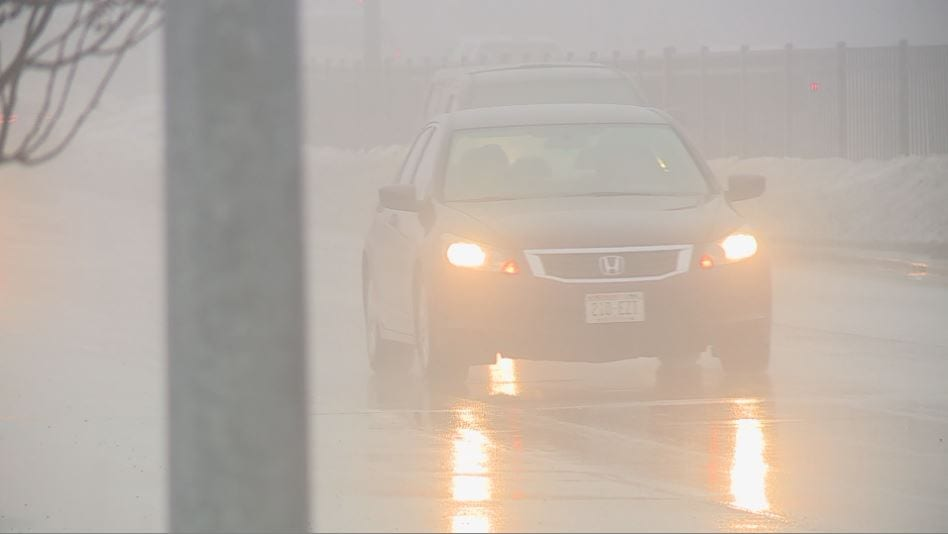car: (357, 108, 768, 377), (426, 50, 654, 122)
